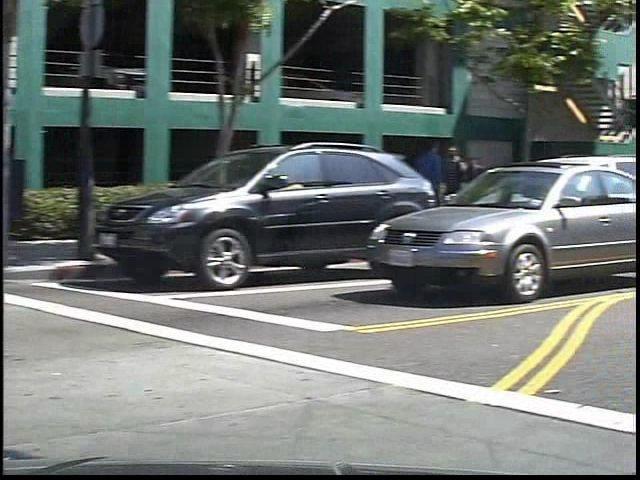person: (430, 135, 471, 240)
